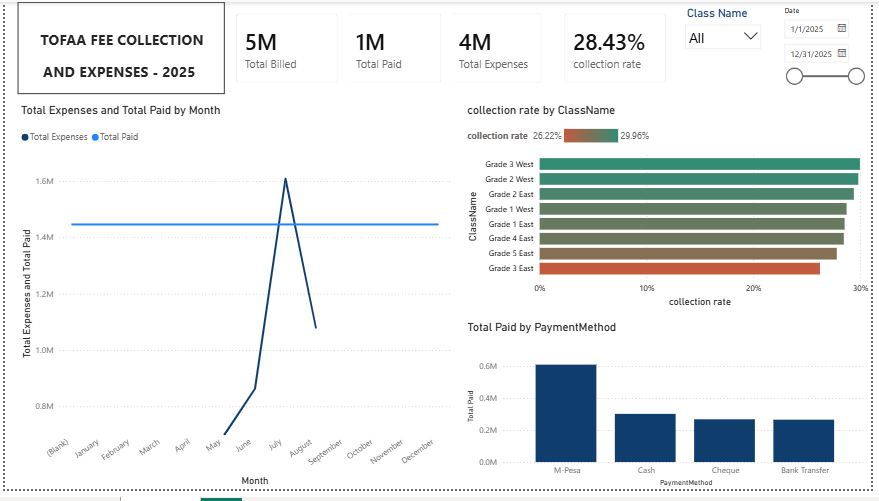

This screenshot's page, from the dashboard's own definition file:
{"tool":"powerbi","page":{"name":"Page 1","canvas":[1280,720],"ordinal":0},"visuals":[{"type":"cardVisual","fields":{"Data":["expenses.Total Expenses"]},"box":[640.4,0,169.1,136.2],"z":0},{"type":"cardVisual","fields":{"Data":["fee_transactions.Total Paid"]},"box":[488.5,0,173.8,136.2],"z":1000},{"type":"lineChart","fields":{"Category":["Date Table.Date.Variation.Date Hierarchy.Month","Date Table.Date.Variation.Date Hierarchy.Day"],"Y":["expenses.Total Expenses","fee_transactions.Total Paid"]},"box":[18.8,148.8,643.5,571.5],"z":2000},{"type":"cardVisual","fields":{"Data":["fee_transactions.Total Billed"]},"box":[324.1,0,184.8,136.2],"z":3000},{"type":"cardVisual","fields":{"Data":["fee_transactions.collection rate"]},"box":[809.5,0,184.8,136.2],"z":4000},{"type":"clusteredBarChart","fields":{"Category":["classes.ClassName"],"Y":["fee_transactions.collection rate"]},"box":[677.4,149.3,602.8,306.1],"z":5000},{"type":"clusteredColumnChart","fields":{"Category":["fee_transactions.PaymentMethod"],"Y":["fee_transactions.Total Paid"]},"box":[677.4,470.3,602.8,250.1],"z":6000},{"type":"slicer","fields":{"Values":["classes.ClassName"]},"box":[994.3,1.6,133.1,134.7],"z":8000},{"type":"slicer","fields":{"Values":["Date Table.Date"]},"box":[1138.3,1.6,140.9,134.7],"z":9000},{"type":"textbox","box":[18.8,0,305.3,136.2],"z":11000}]}

Visuals, with their boxes in screenshot pixels (x1, y1, x2, y2), scaled from the page's 1280x720 canvas onto the 879x501 screenshot:
cardVisual - expenses.Total Expenses: bbox(440, 0, 556, 95)
cardVisual - fee_transactions.Total Paid: bbox(335, 0, 455, 95)
lineChart - Date Table.Date.Variation.Date Hierarchy.Month x Date Table.Date.Variation.Date Hierarchy.Day: bbox(13, 104, 455, 500)
cardVisual - fee_transactions.Total Billed: bbox(223, 0, 349, 95)
cardVisual - fee_transactions.collection rate: bbox(556, 0, 683, 95)
clusteredBarChart - classes.ClassName x fee_transactions.collection rate: bbox(465, 104, 878, 317)
clusteredColumnChart - fee_transactions.PaymentMethod x fee_transactions.Total Paid: bbox(465, 327, 878, 500)
slicer - classes.ClassName: bbox(683, 1, 774, 95)
slicer - Date Table.Date: bbox(782, 1, 878, 95)
textbox: bbox(13, 0, 223, 95)
